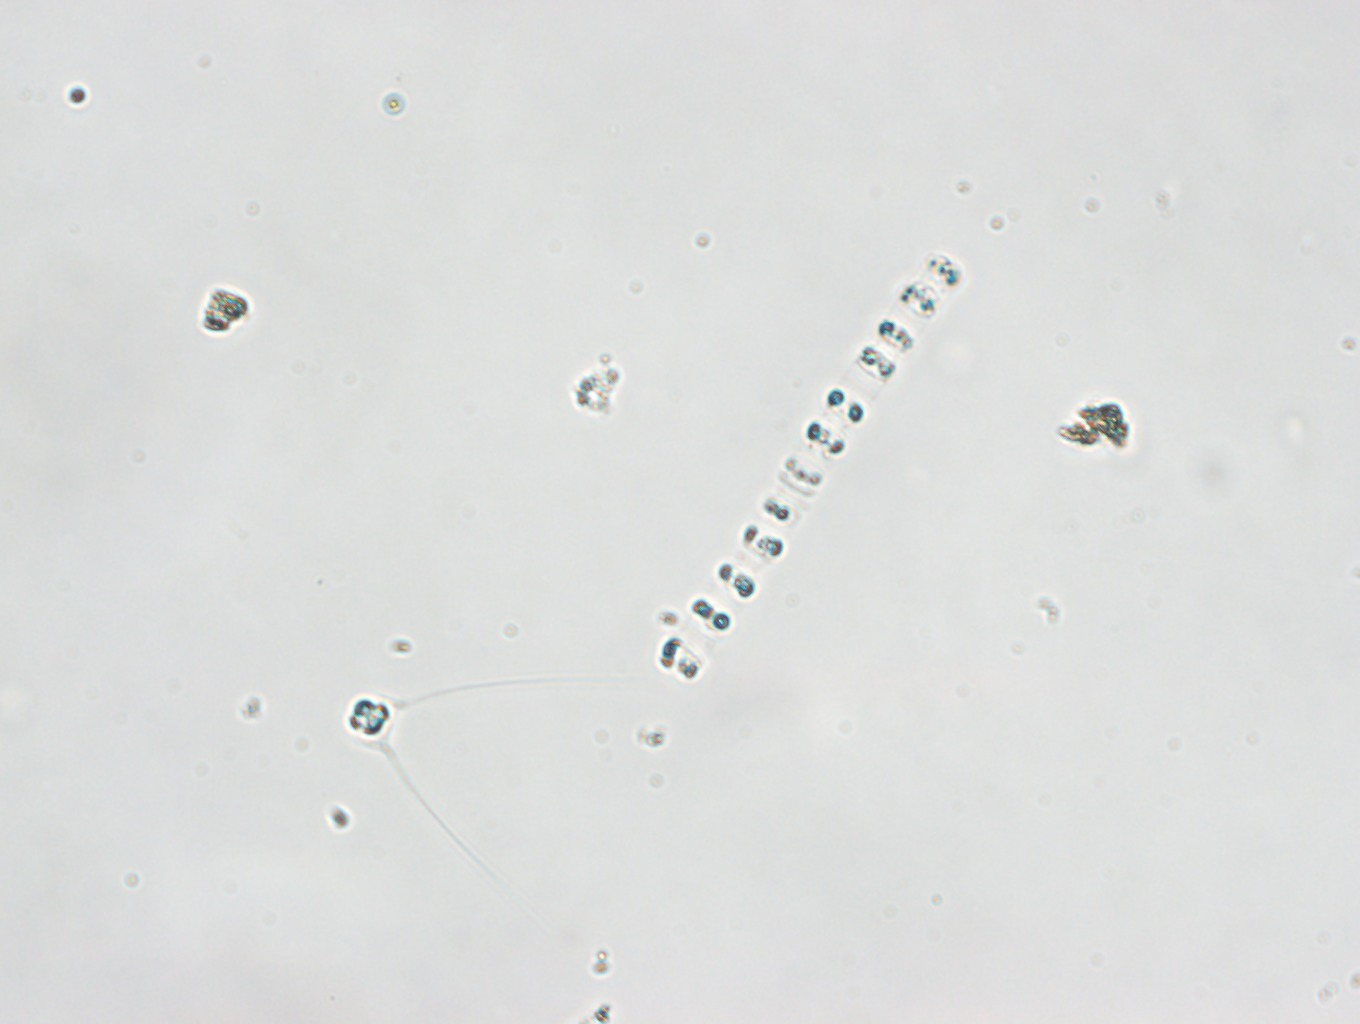chaetoceros: (345, 673, 595, 882), (347, 675, 596, 884)
skeletonema: (656, 247, 967, 686), (654, 245, 964, 684)
